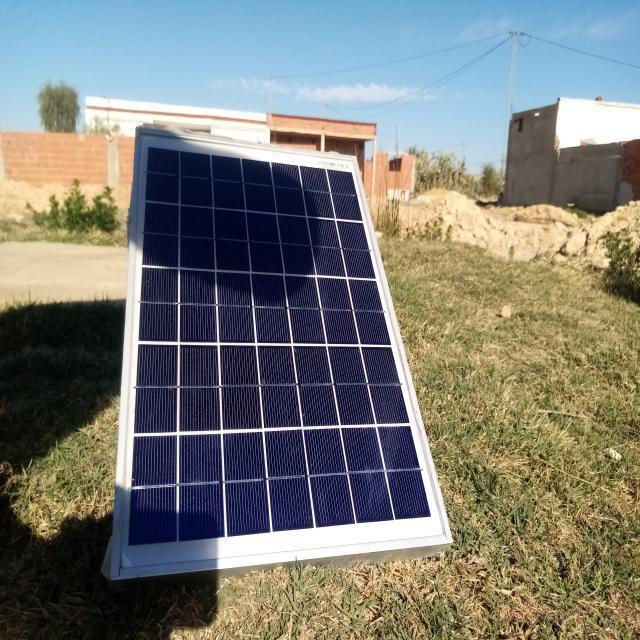Normal Solar Panel: (112, 129, 452, 577)
